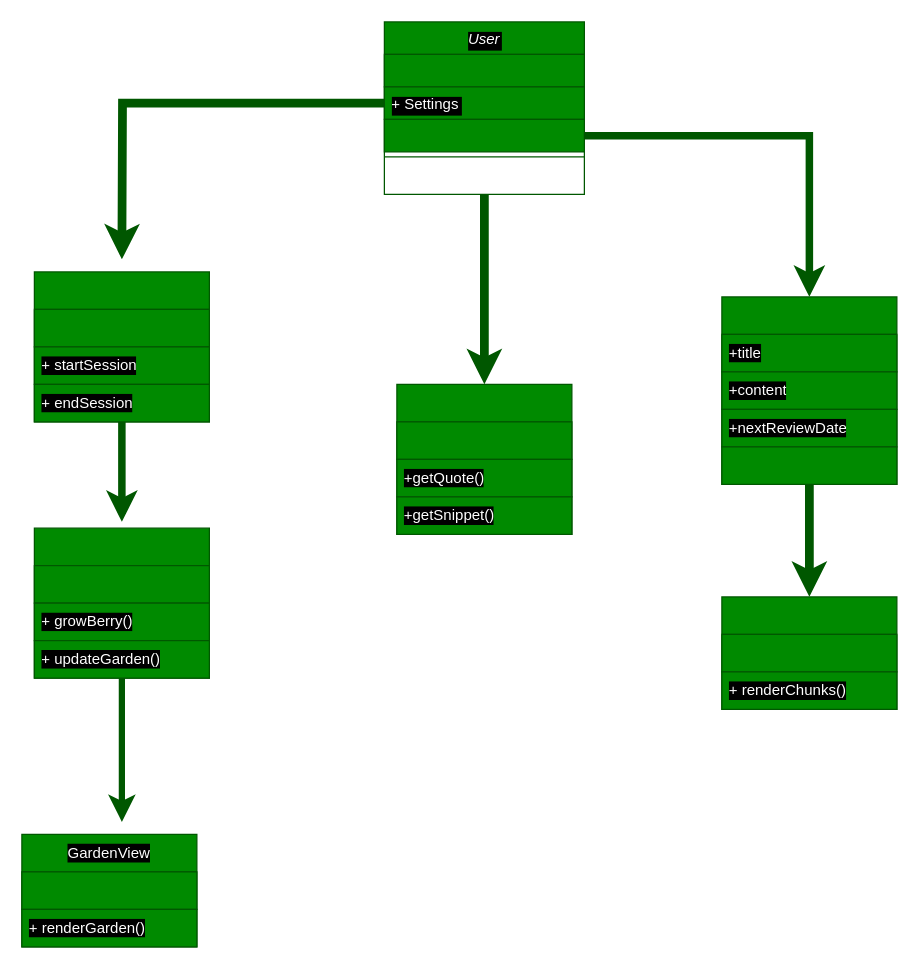
Image size: 919x969. Some labels were removed from this diagram. The shapes that lost their labels are listed below. From the top down, each one's box as (x1, y1, x2, y2) in pixels, then its label:
(383, 53, 584, 87): + ID
(383, 118, 584, 152): + Brainmap
(33, 271, 209, 422): Timer
(721, 296, 897, 484): LearningChunk
(396, 383, 572, 534): Motivation Engine
(33, 527, 209, 678): GrowthEngine
(721, 596, 897, 709): BrainMapView
